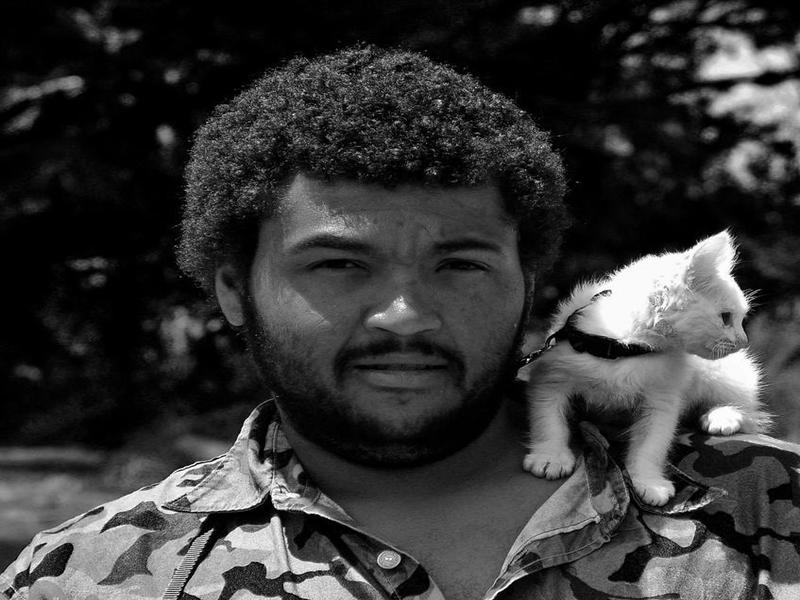person: (7, 44, 783, 600)
